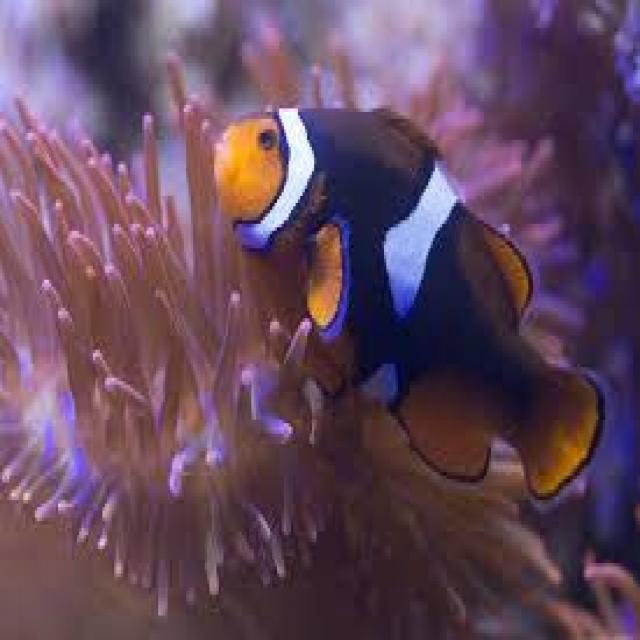Amphiprion-percula: (200, 75, 627, 497)
